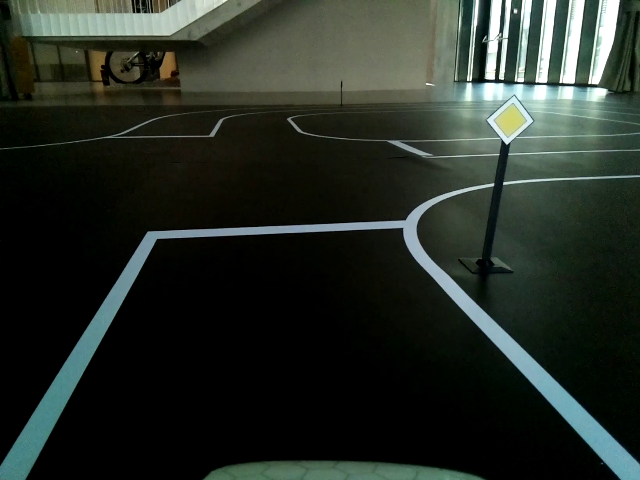priority: (485, 94, 534, 148)
